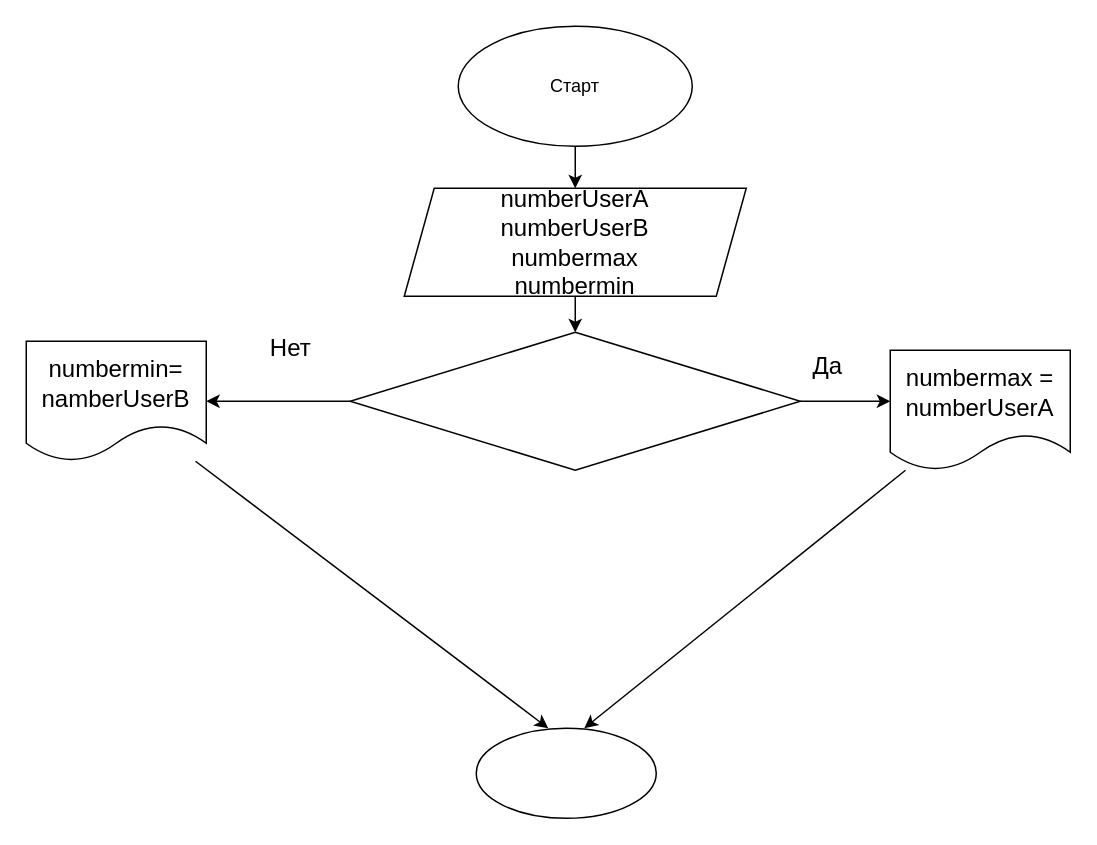
Image size: 1097x845. Some labels were removed from this diagram. The centre of each missing label's shape, as x and y in pixels:
if (namberUserA > nuberUserB): (x=574, y=400)
Конец: (x=565, y=772)
